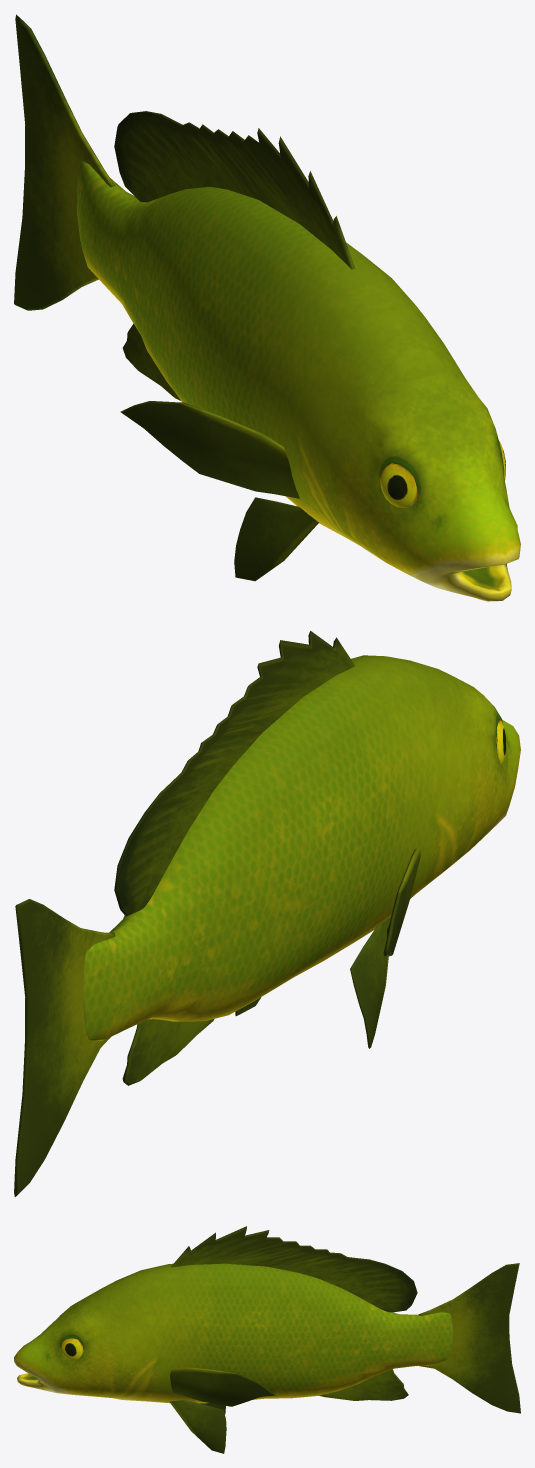
File: glacial_perch.glb
The picture shows the model from 3 angles, top to bottom: view 1: azimuth 30°, elevation 25°; view 2: azimuth 150°, elevation 25°; view 3: azimuth 270°, elevation 25°; orthographic projection. The views are drawn at different scales.
Parts seen in each view (by area): view 1: fish_vertColor_low; view 2: fish_vertColor_low; view 3: fish_vertColor_low.
Boxes of the visible parts, x1,y1,x2,y2 form: fish_vertColor_low: (14,14,520,601); fish_vertColor_low: (14,631,520,1196); fish_vertColor_low: (14,1226,520,1453).
Bounding box in the file's own units: 12.55 × 18.45 × 40.16.
1 material, 1 textured.
